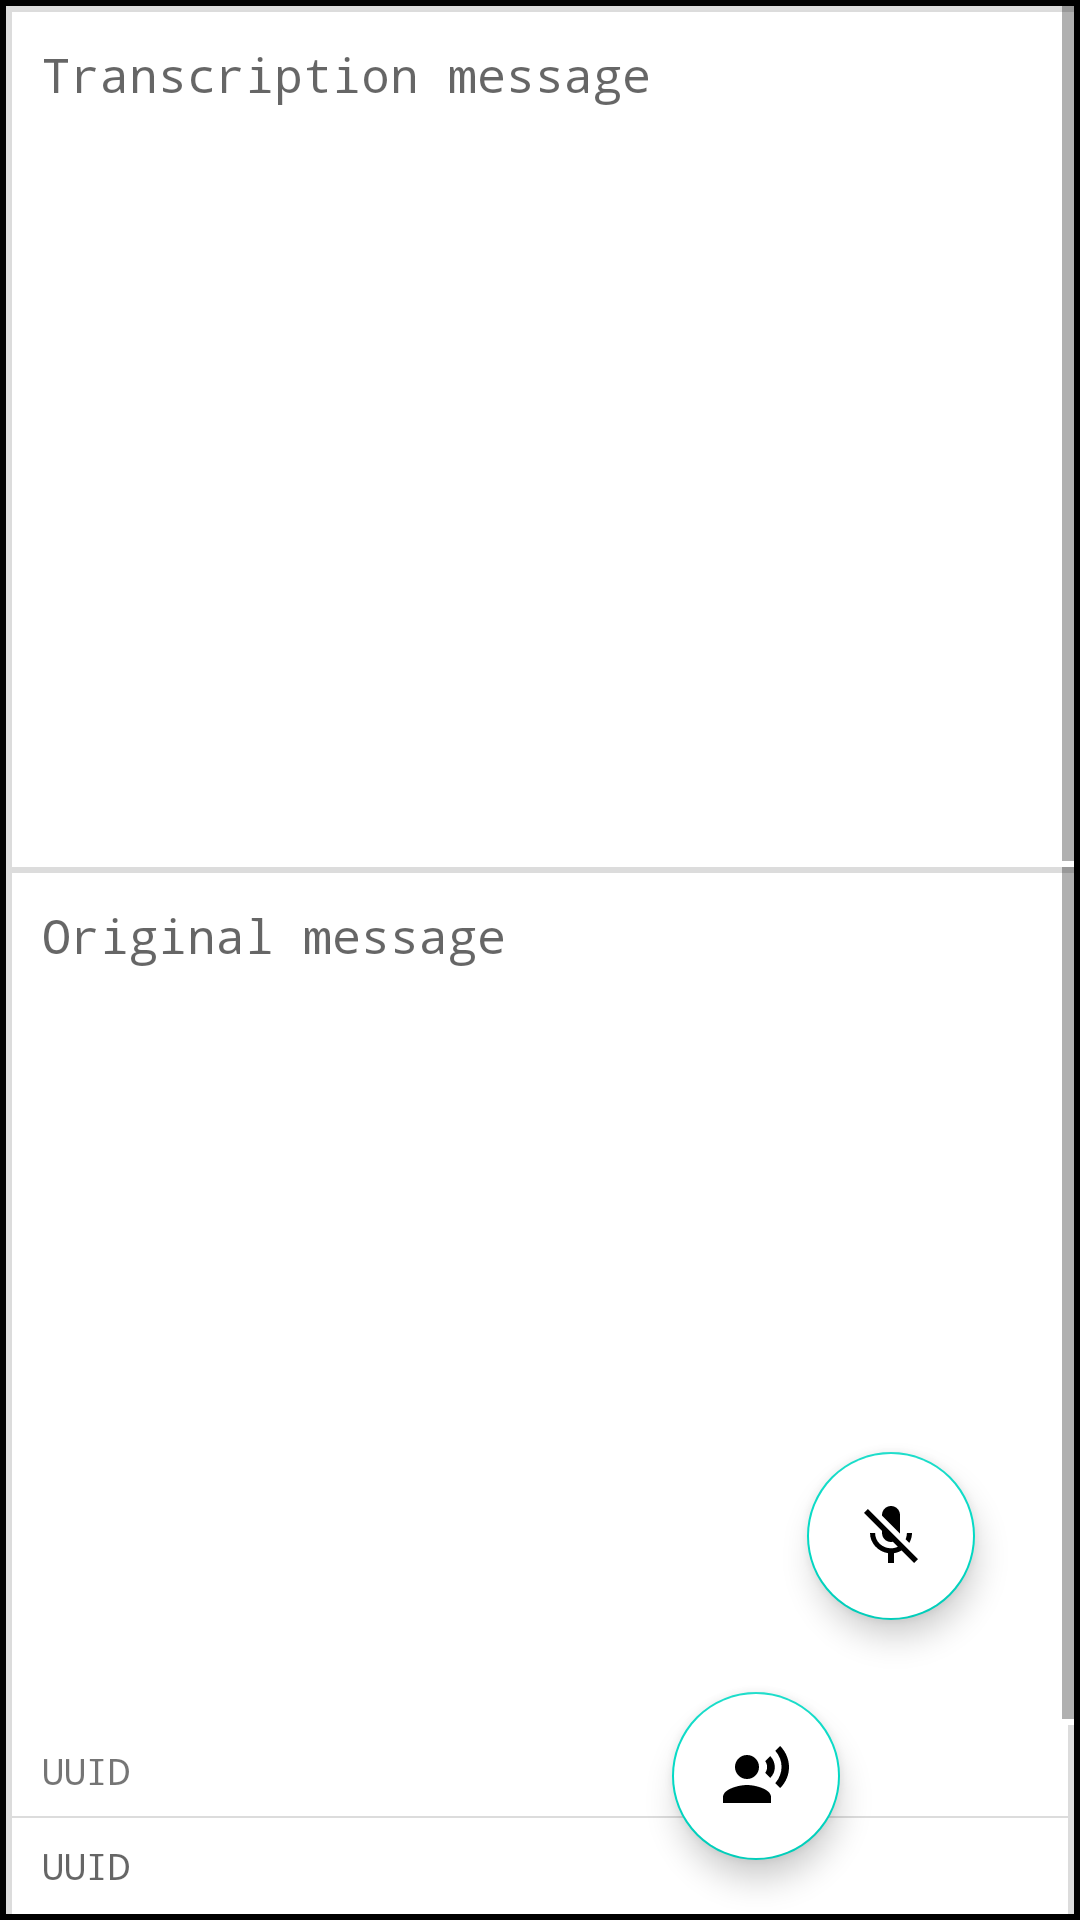

Locate icon controls on the screen. Image size 1080×1920, boxes as (x1, y1, x2, y2).
mic off: (807, 1452, 975, 1620)
